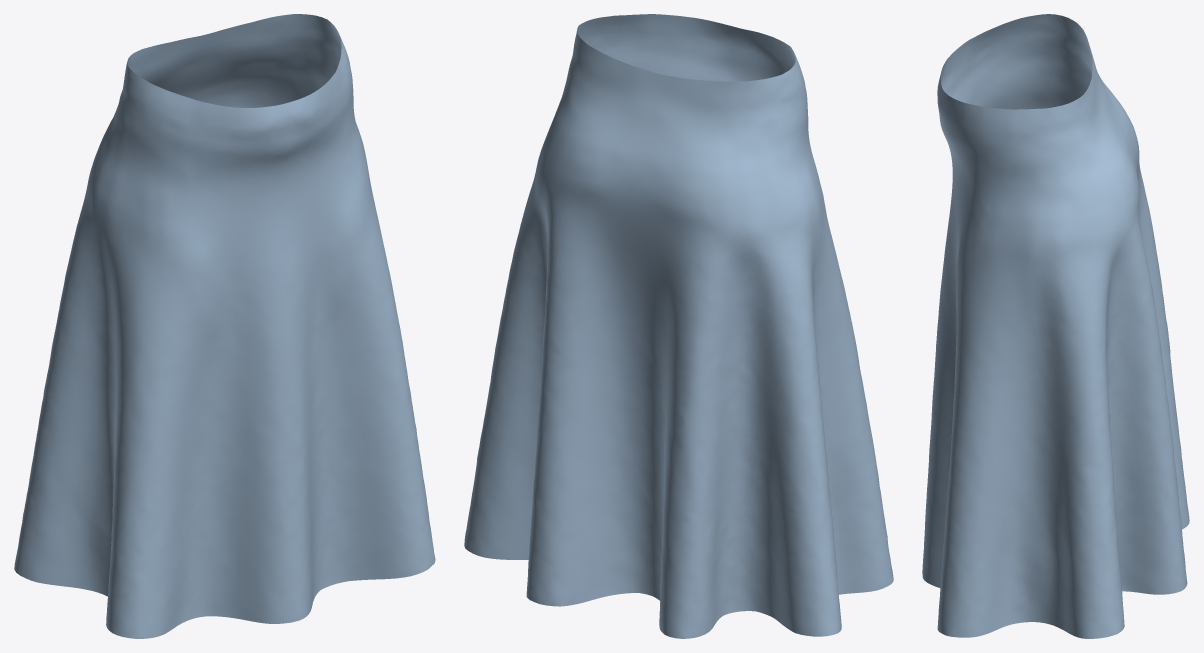
Rendered from skirt_XL.glb.
The picture shows the model from 3 angles, left to right: view 1: azimuth 30°, elevation 25°; view 2: azimuth 150°, elevation 25°; view 3: azimuth 270°, elevation 25°; orthographic projection. The views are drawn at different scales.
Visible parts, largest first — view 1: geometry_0; view 2: geometry_0; view 3: geometry_0.
Part boxes in pixels (x1,y1,x2,y2): geometry_0: (14,14,435,638); geometry_0: (464,14,893,638); geometry_0: (922,14,1189,638).
Size of the model in its own units: 0.6144 by 0.8506 by 0.3998.
